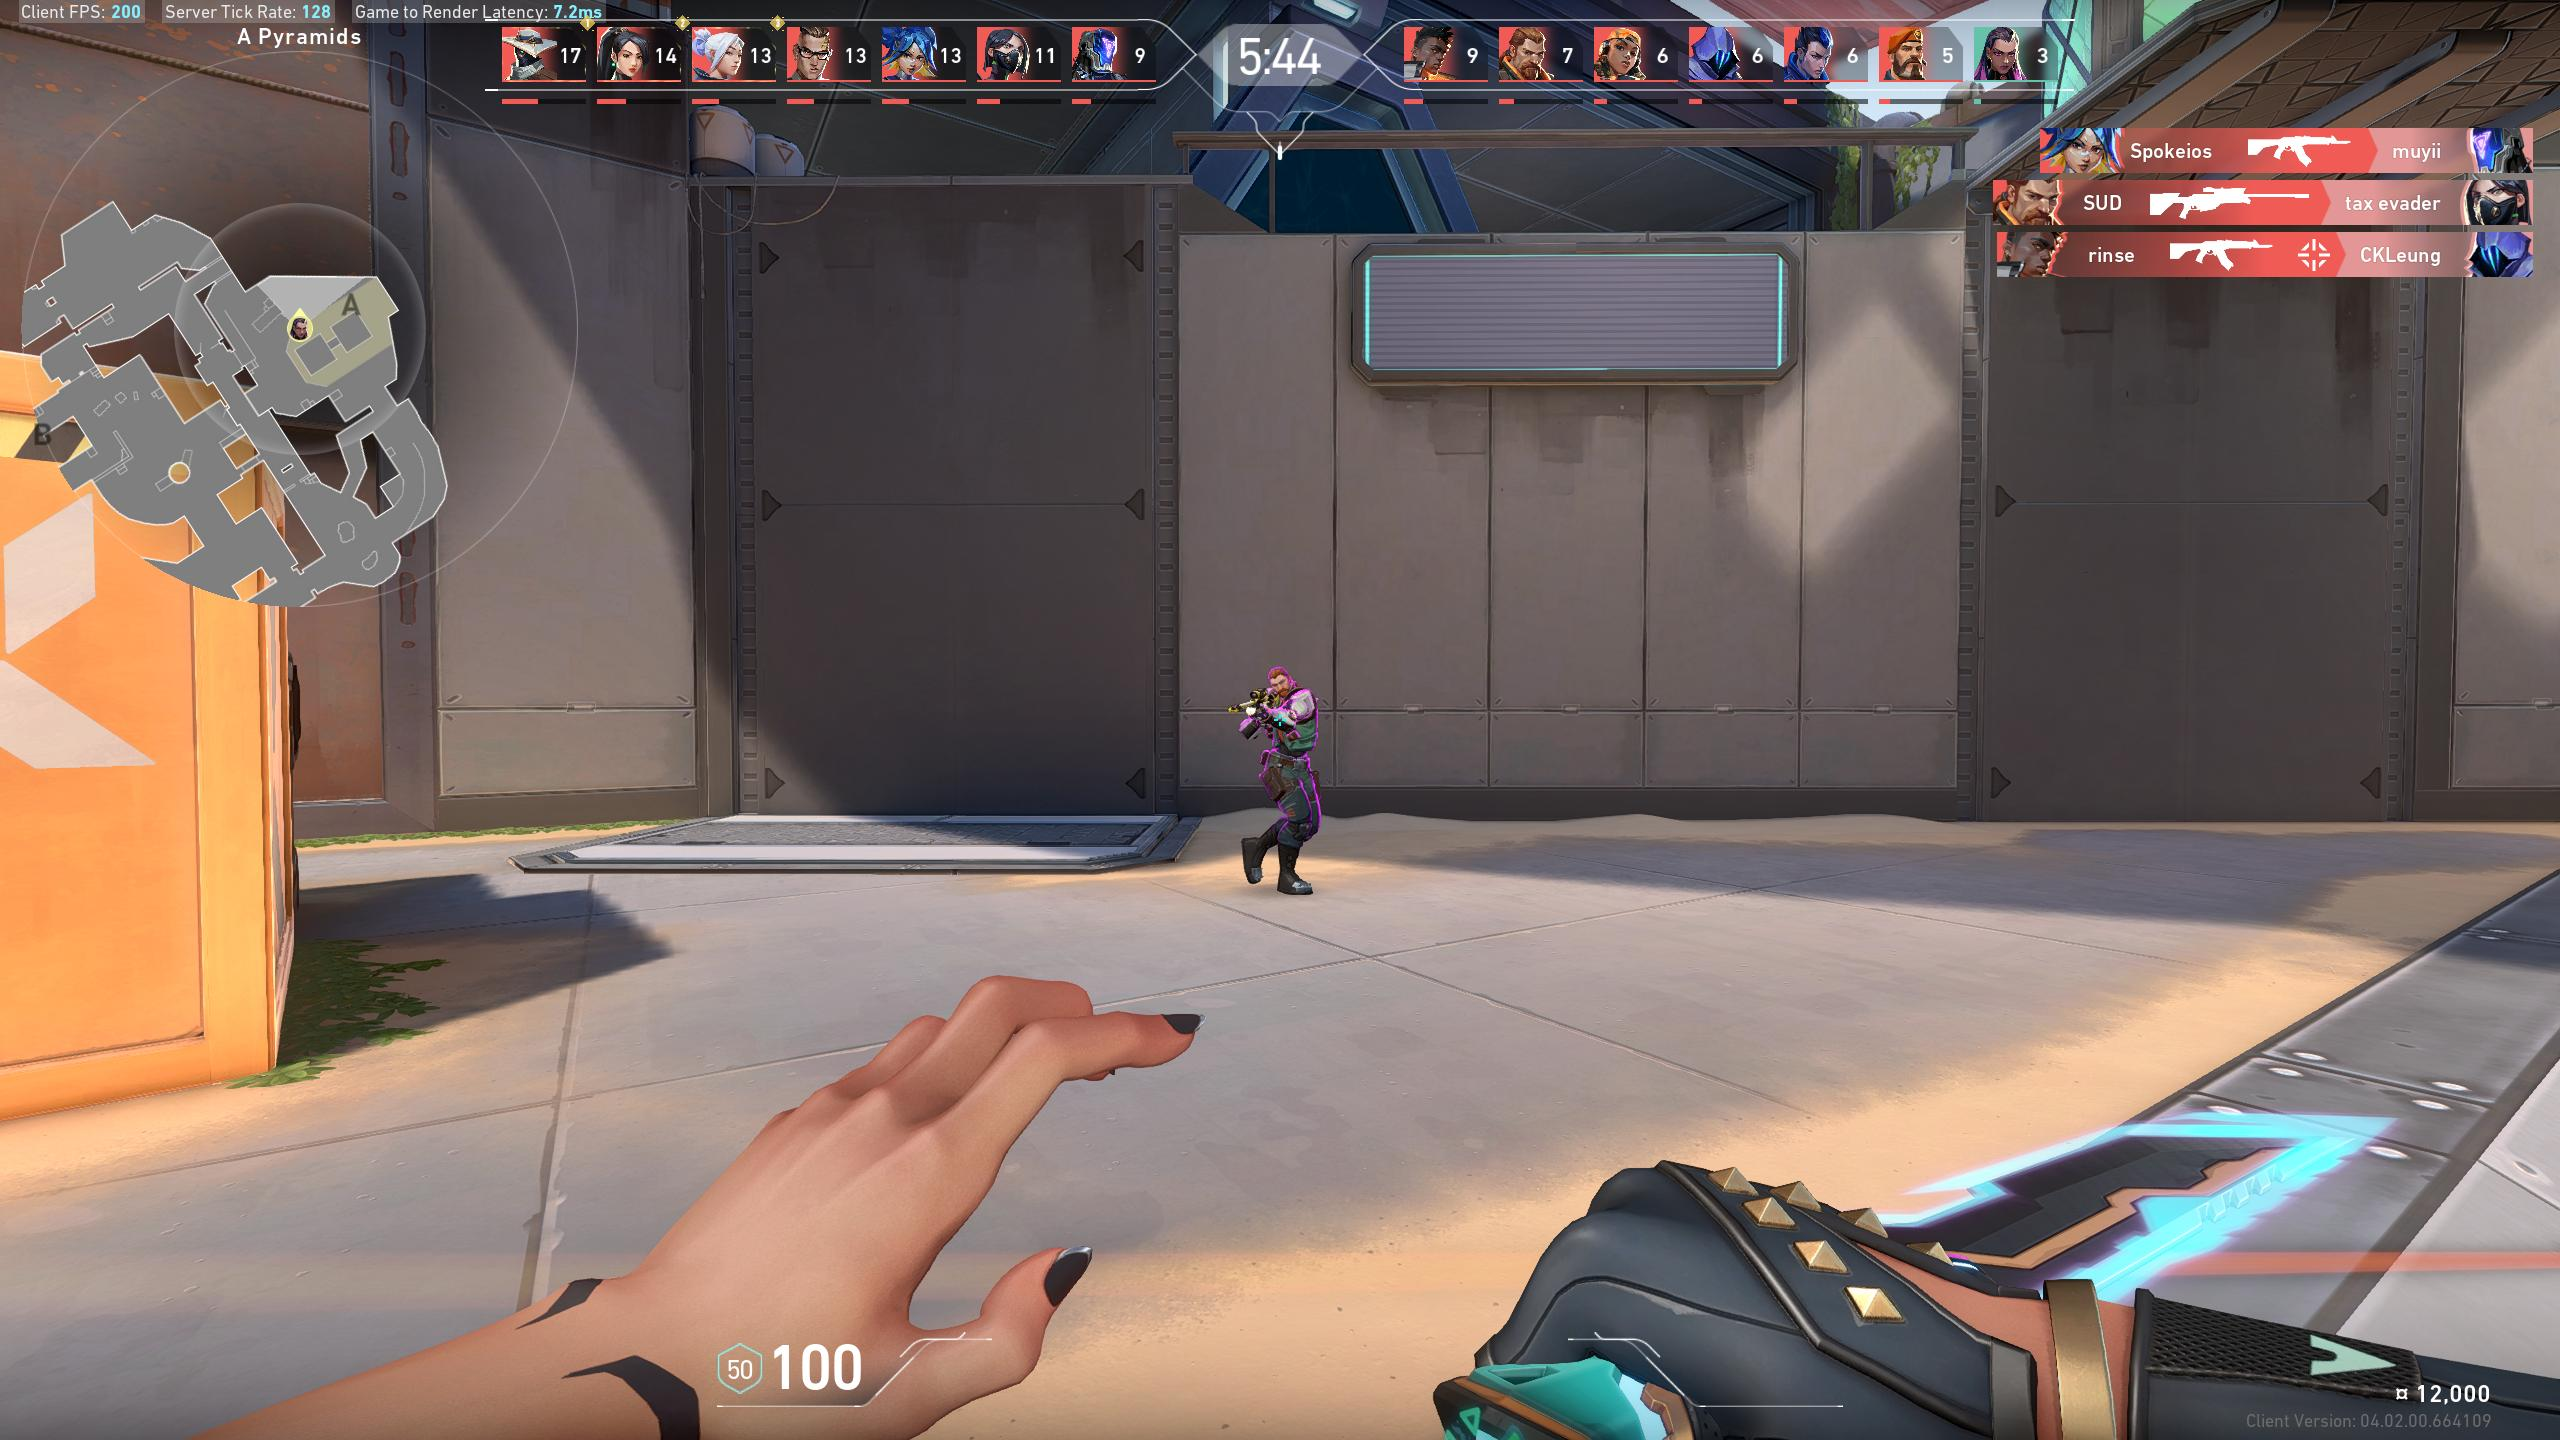enemyBody: (1278, 703, 1306, 761)
enemyHead: (1269, 675, 1294, 698)
